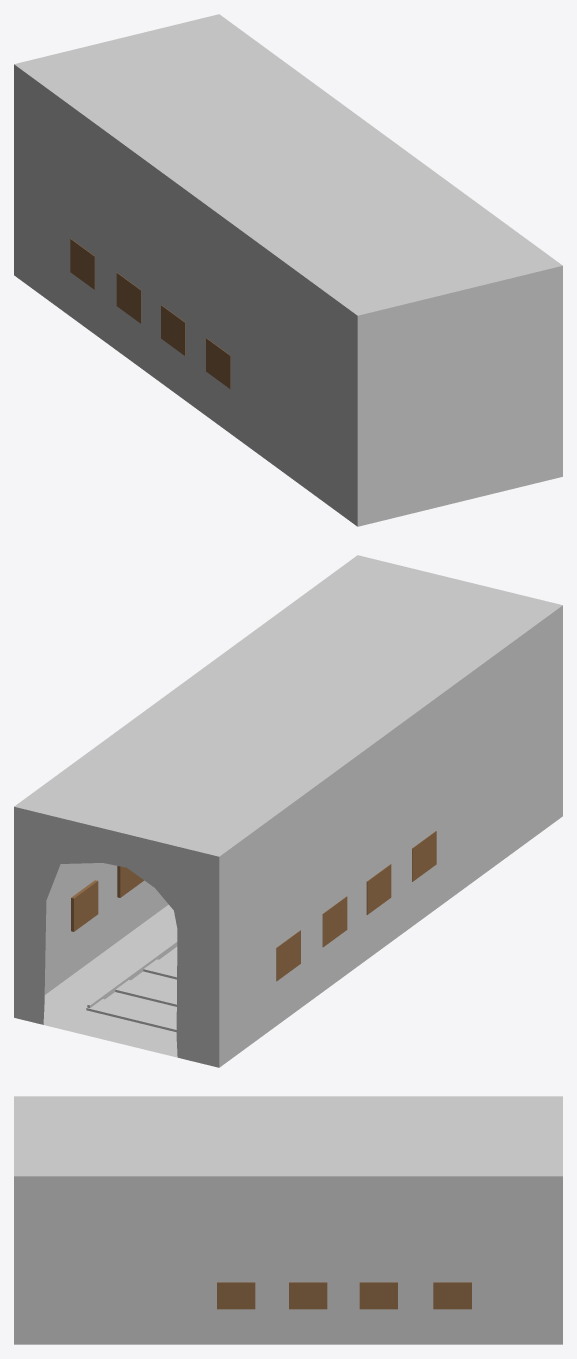
The picture shows the model from 3 angles, top to bottom: view 1: azimuth 30°, elevation 25°; view 2: azimuth 150°, elevation 25°; view 3: azimuth 270°, elevation 25°; orthographic projection. The views are drawn at different scales.
Visible parts, largest first — view 1: Cube, Cube.010; view 2: Cube, Cube.010, Cube.009, Cube.002, Cube.001, Cube.006; view 3: Cube, Cube.009.
Boxes of the visible parts, left/top/right/bottom form: Cube: left=14, top=14, right=562, bottom=526; Cube.010: left=70, top=239, right=230, bottom=388; Cube: left=14, top=555, right=562, bottom=1067; Cube.010: left=276, top=831, right=436, bottom=981; Cube.009: left=71, top=866, right=143, bottom=931; Cube.002: left=86, top=999, right=176, bottom=1032; Cube.001: left=115, top=980, right=176, bottom=1006; Cube.006: left=87, top=939, right=177, bottom=1007; Cube: left=14, top=1096, right=562, bottom=1344; Cube.009: left=217, top=1282, right=471, bottom=1309.
Size of the model in its own units: 17.72 by 17.45 by 51.02.
